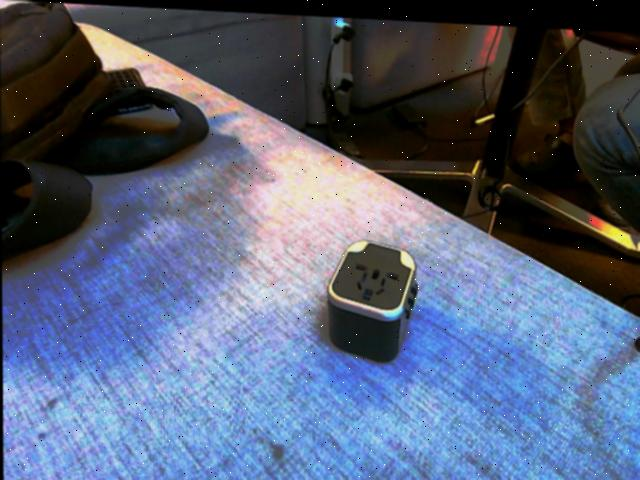adapter: (325, 234, 418, 360)
